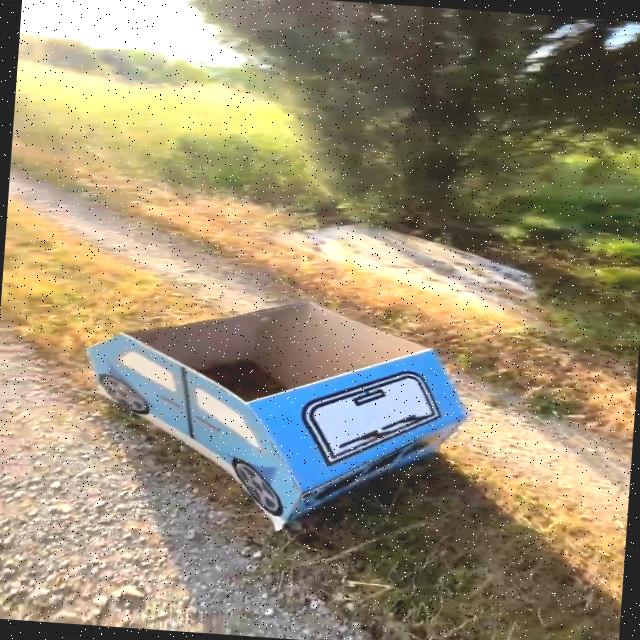blue_car: (35, 276, 539, 549)
